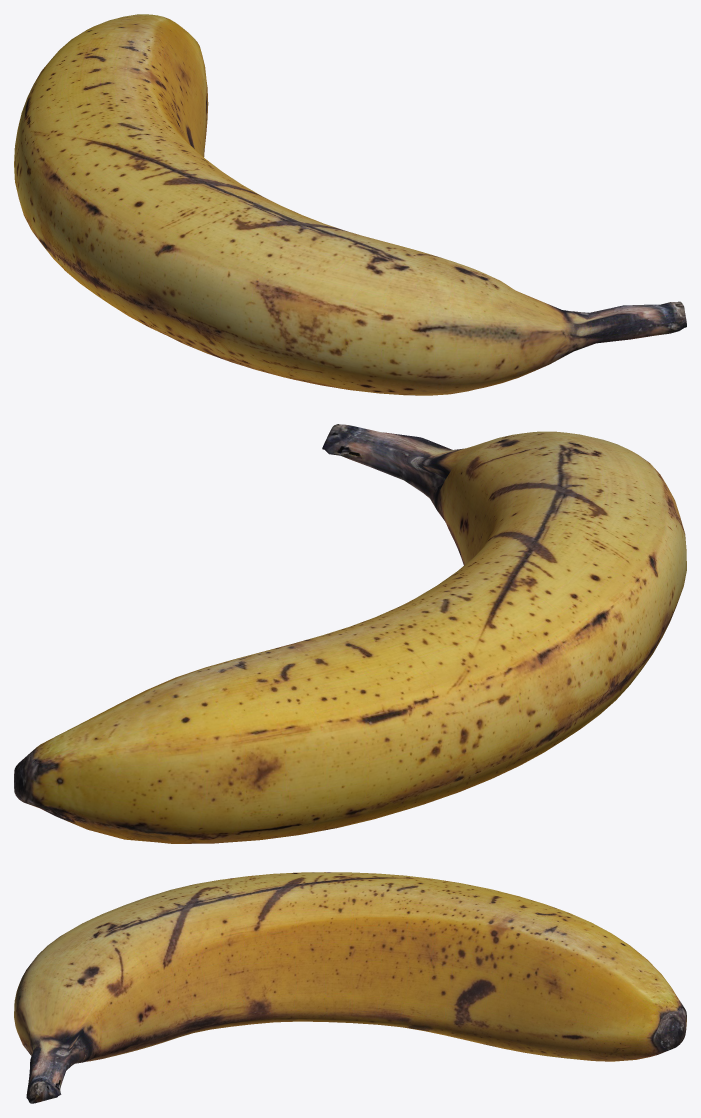
File: banana.obj
3 views of the same model, one above another, from view 1: azimuth 30°, elevation 25°; view 2: azimuth 150°, elevation 25°; view 3: azimuth 270°, elevation 25° (orthographic). The views are drawn at different scales.
Visible parts, largest first — view 1: Banana_Banana_0; view 2: Banana_Banana_0; view 3: Banana_Banana_0.
Boxes of the visible parts, x1=… form: Banana_Banana_0: x1=14, y1=14, x2=686, y2=395; Banana_Banana_0: x1=14, y1=424, x2=686, y2=843; Banana_Banana_0: x1=14, y1=872, x2=686, y2=1103.
Size of the model in its own units: 0.0763 by 0.0254 by 0.1301.
Materials: 1 (1 with a texture image).
